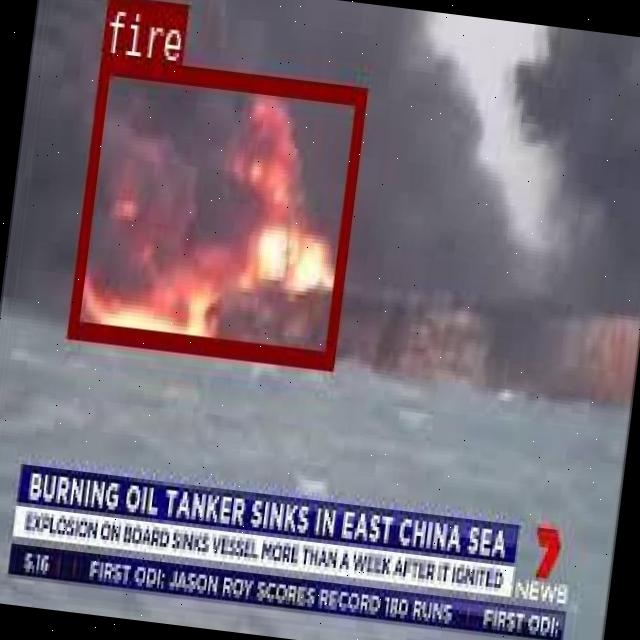fire: (66, 54, 364, 364)
